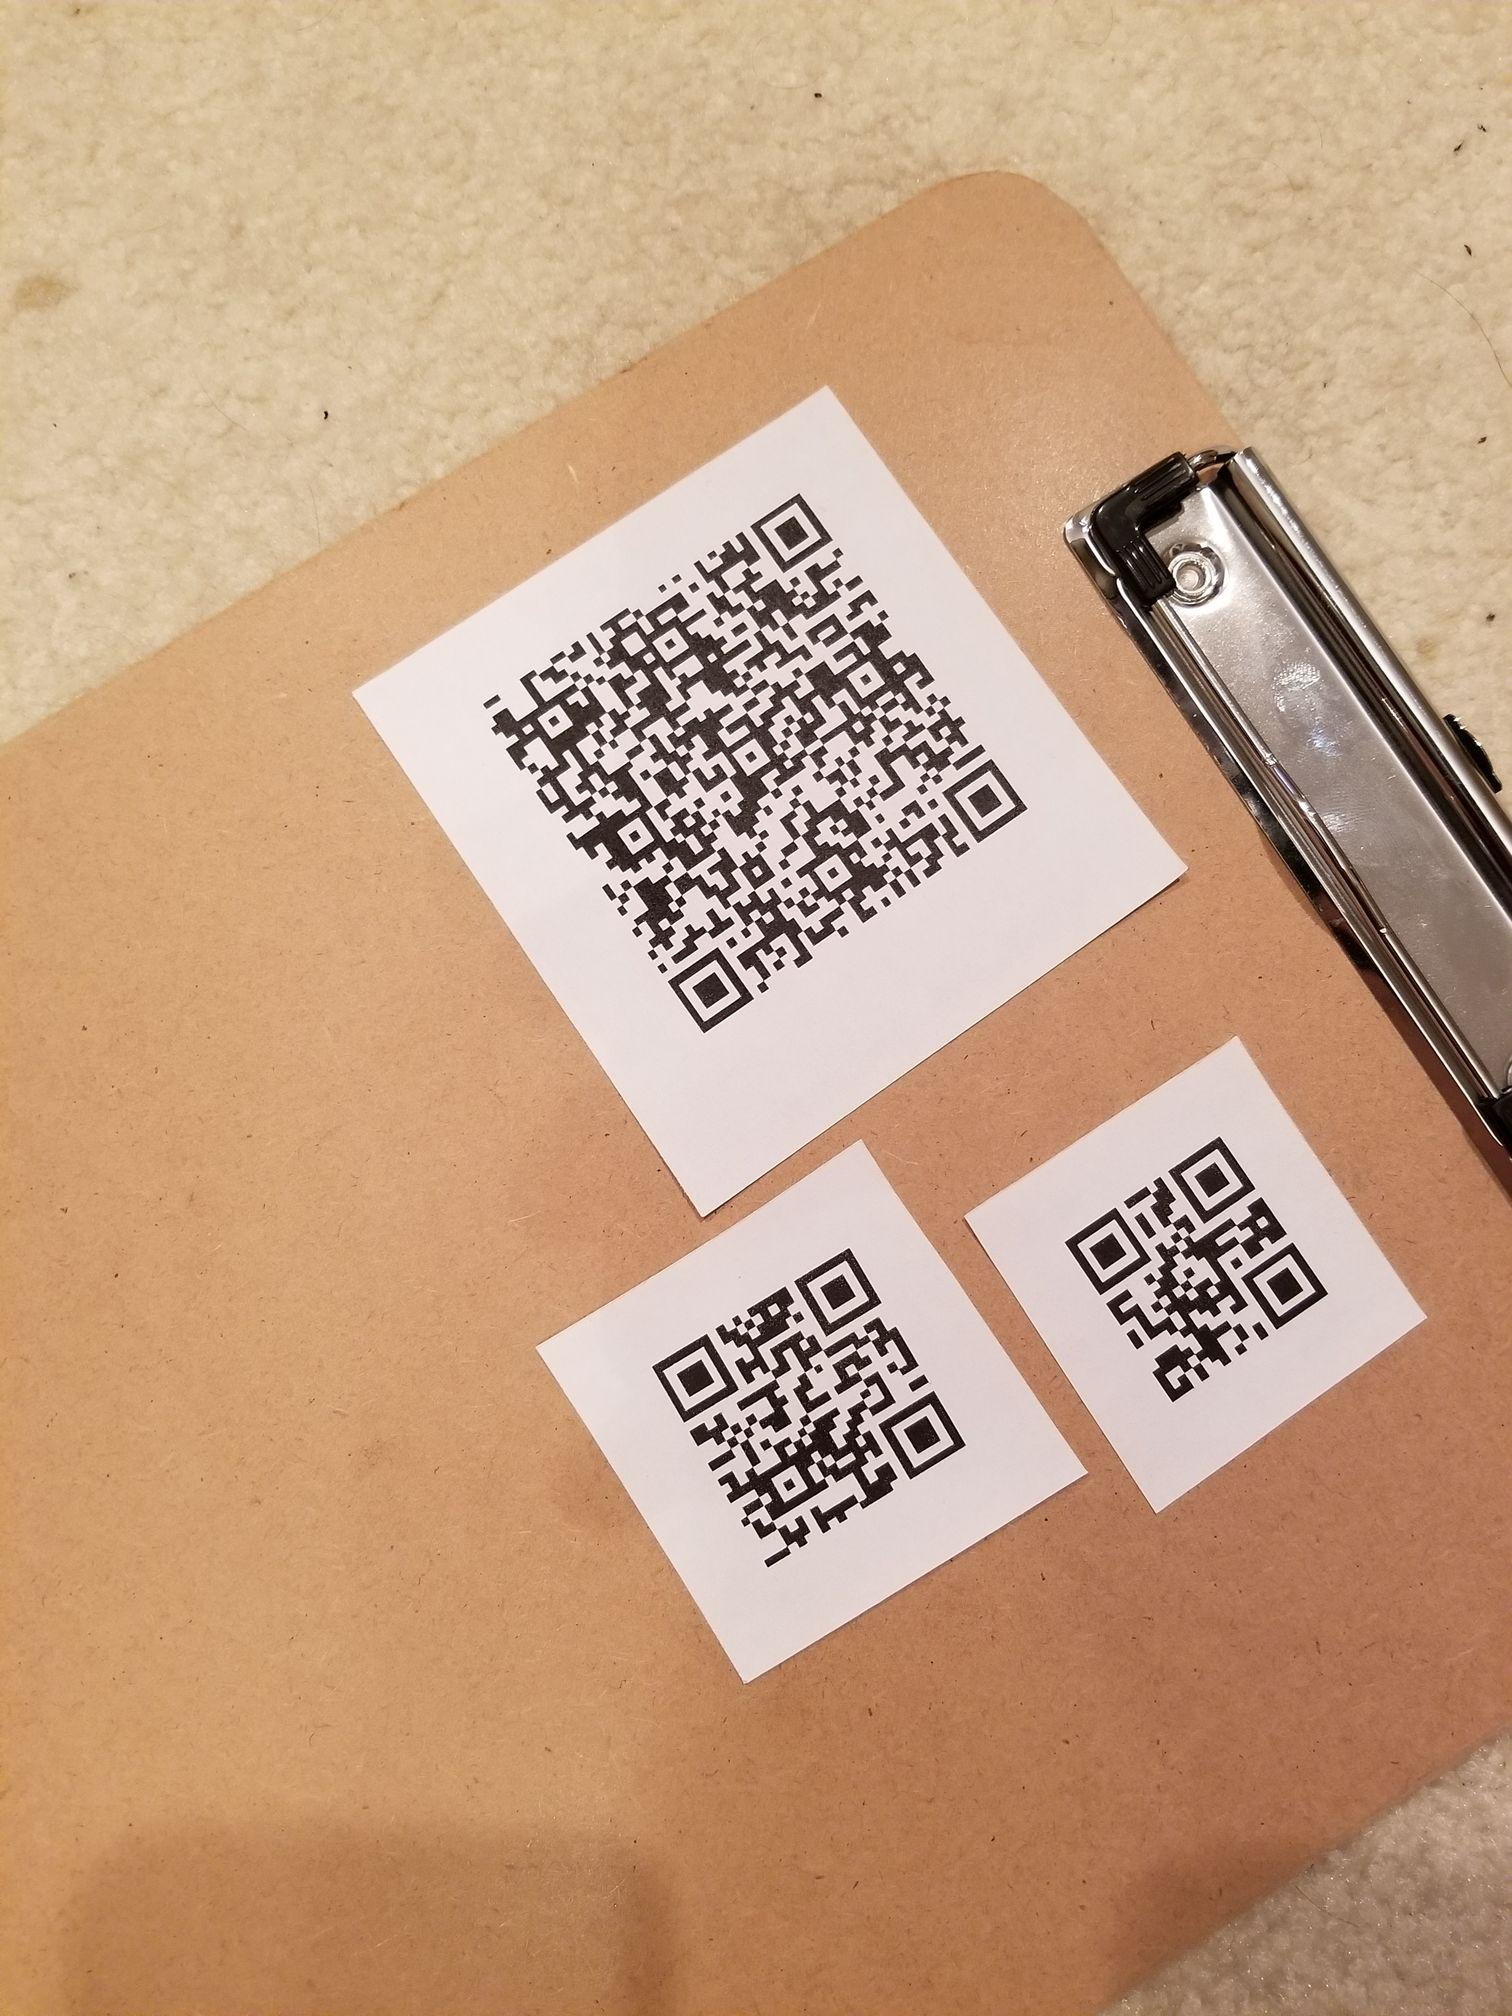QRCode: (447, 465, 1059, 1065), (620, 1215, 991, 1596), (1043, 1116, 1349, 1427)
